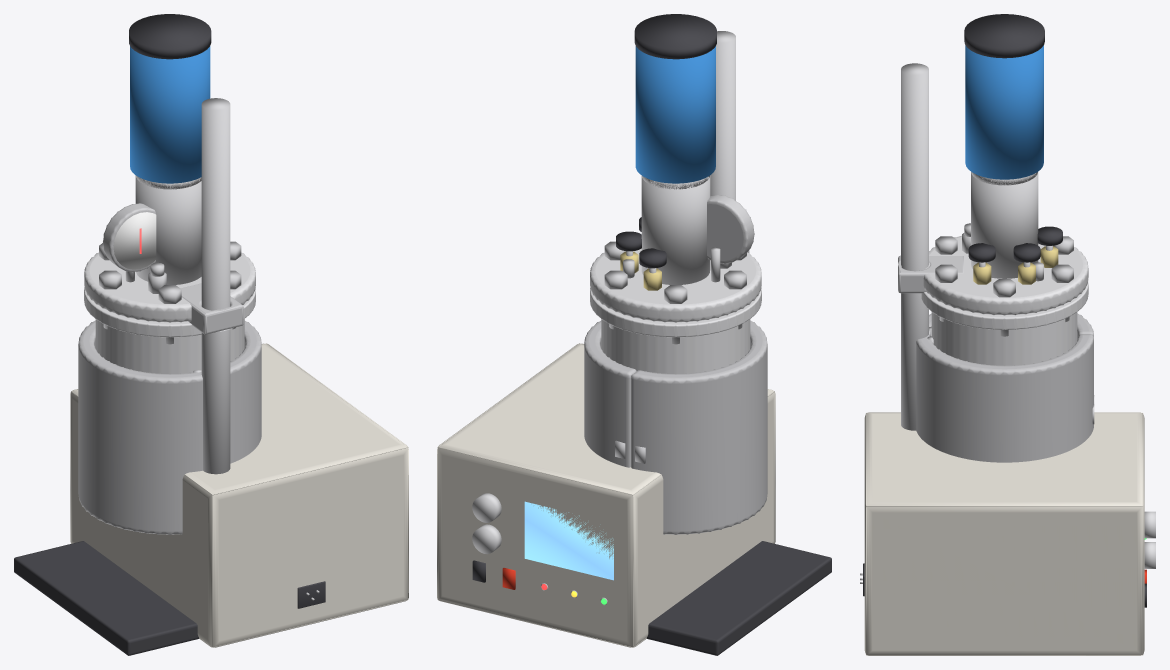
File: high_pressure_reactor.glb
3 views of the same model, side by side, from view 1: azimuth 30°, elevation 25°; view 2: azimuth 150°, elevation 25°; view 3: azimuth 270°, elevation 25° (orthographic). The views are drawn at different scales.
Visible parts, largest first — view 1: Controller_Body, Lid_Heater_Left, Stand_Base, Stand_Rod, Rotor_Motor, Body_Vessel, Stirrer_Drive, Head_Plate, Lid_Heater_Right, Rotor_Motor_Cap, UI_Gauge_Face, Stand_Clamp (+2 smaller); view 2: Controller_Body, Lid_Heater_Left, Stand_Base, Rotor_Motor, Body_Vessel, Head_Plate, Stirrer_Drive, Lid_Heater_Right, lcdscreen, Stand_Rod, Rotor_Motor_Cap, Gauge_Body (+2 smaller); view 3: Controller_Body, Lid_Heater_Right, Rotor_Motor, Stand_Rod, Body_Vessel, Head_Plate, Stirrer_Drive, Rotor_Motor_Cap, Stand_Clamp, Knob_Valve_Inlet, Knob_Valve_Vent, Knob_Valve_DipTube.
Part boxes in pixels (left/top/right/bottom): Controller_Body: left=70, top=343, right=408, bottom=647; Lid_Heater_Left: left=78, top=320, right=202, bottom=534; Stand_Base: left=14, top=541, right=198, bottom=655; Stand_Rod: left=201, top=98, right=230, bottom=474; Rotor_Motor: left=130, top=46, right=210, bottom=183; Body_Vessel: left=84, top=287, right=255, bottom=373; Stirrer_Drive: left=135, top=175, right=201, bottom=284; Head_Plate: left=84, top=252, right=255, bottom=322; Lid_Heater_Right: left=230, top=320, right=261, bottom=463; Rotor_Motor_Cap: left=129, top=14, right=211, bottom=59; UI_Gauge_Face: left=113, top=212, right=156, bottom=269; Stand_Clamp: left=180, top=283, right=243, bottom=334; Controller_Body: left=437, top=343, right=775, bottom=647; Lid_Heater_Left: left=631, top=320, right=767, bottom=534; Stand_Base: left=647, top=541, right=831, bottom=655; Rotor_Motor: left=635, top=46, right=715, bottom=183; Body_Vessel: left=590, top=287, right=761, bottom=373; Head_Plate: left=590, top=248, right=761, bottom=322; Stirrer_Drive: left=641, top=175, right=710, bottom=284; Lid_Heater_Right: left=584, top=320, right=636, bottom=467; lcdscreen: left=524, top=501, right=613, bottom=580; Stand_Rod: left=710, top=31, right=735, bottom=200; Rotor_Motor_Cap: left=634, top=14, right=716, bottom=59; Gauge_Body: left=707, top=195, right=754, bottom=263; Controller_Body: left=864, top=412, right=1144, bottom=655; Lid_Heater_Right: left=916, top=334, right=1093, bottom=462; Rotor_Motor: left=965, top=45, right=1043, bottom=179; Stand_Rod: left=901, top=63, right=928, bottom=430; Body_Vessel: left=921, top=280, right=1088, bottom=365; Head_Plate: left=923, top=235, right=1088, bottom=315; Stirrer_Drive: left=971, top=172, right=1038, bottom=278; Rotor_Motor_Cap: left=964, top=14, right=1044, bottom=58; Stand_Clamp: left=898, top=255, right=963, bottom=293; Knob_Valve_Inlet: left=1013, top=243, right=1040, bottom=262; Knob_Valve_Vent: left=968, top=243, right=995, bottom=262; Knob_Valve_DipTube: left=1037, top=226, right=1062, bottom=245.
Size of the model in its own units: 0.27 by 0.5376 by 0.264.
